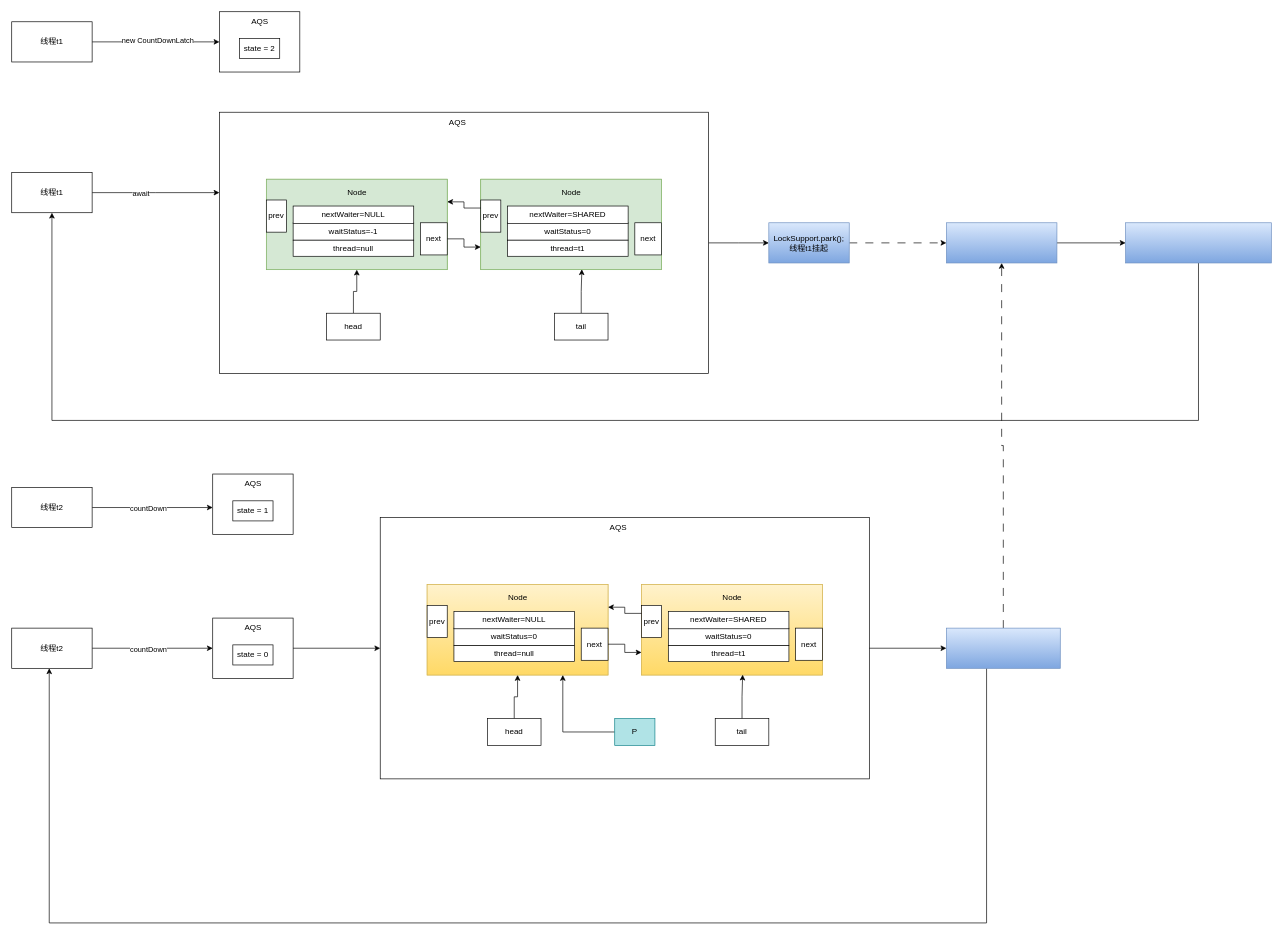
This 1283x940 diagram has some shape labels left out. Here are the shapes that lost their labels. From the top down, the box of each, then its label:
(946, 222, 1057, 263): 线程t1从挂起的地方继续执行
(1125, 222, 1271, 263): 走AQS的共享锁队列释放加锁逻辑 不同的是加上锁之后， state 还是0
(946, 627, 1060, 668): LockSupport.unpark(t1);
